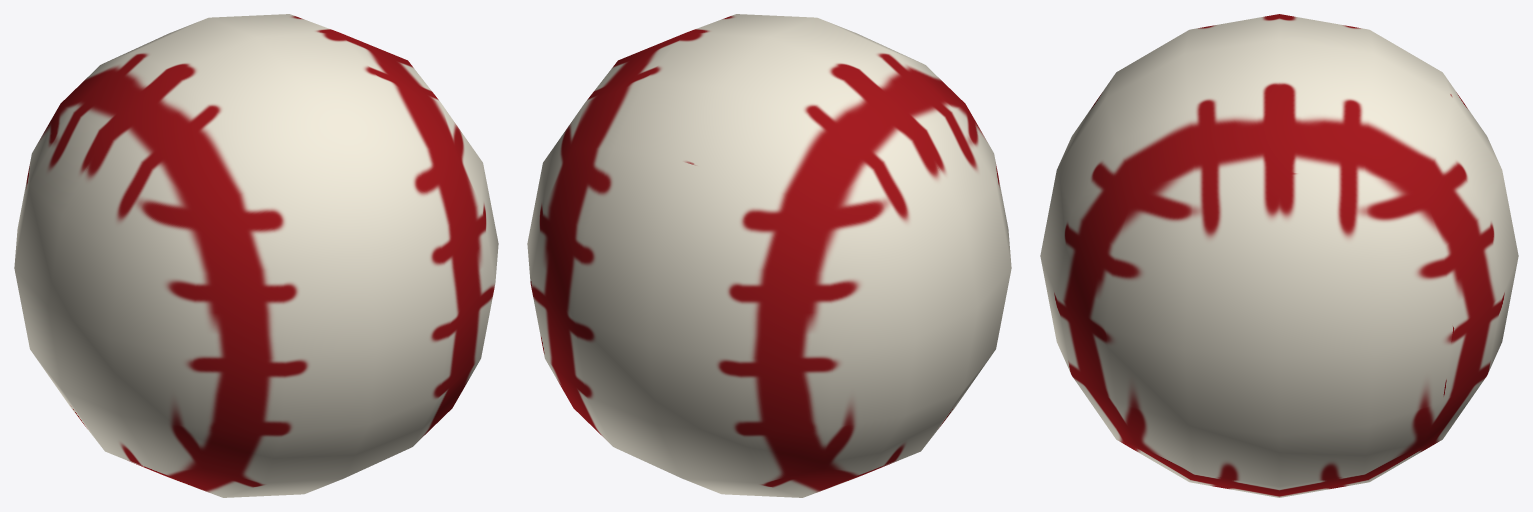
Rendered from Baseball.glb.
3 views of the same model, side by side, from view 1: azimuth 30°, elevation 25°; view 2: azimuth 150°, elevation 25°; view 3: azimuth 270°, elevation 25° (orthographic).
Parts seen in each view (by area): view 1: Cube; view 2: Cube; view 3: Cube.
Part boxes in pixels (x1=…): Cube: x1=14, y1=14, x2=498, y2=497; Cube: x1=527, y1=14, x2=1011, y2=497; Cube: x1=1040, y1=14, x2=1518, y2=497.
Size of the model in its own units: 0.2203 by 0.2203 by 0.2203.
1 material, 1 textured.
